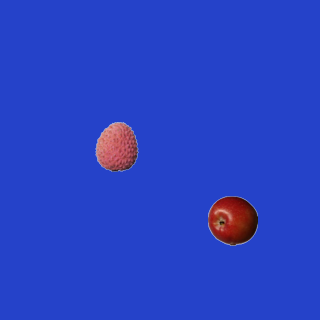Apple Braeburn: (207, 195, 257, 245)
Lychee: (91, 121, 141, 171)
